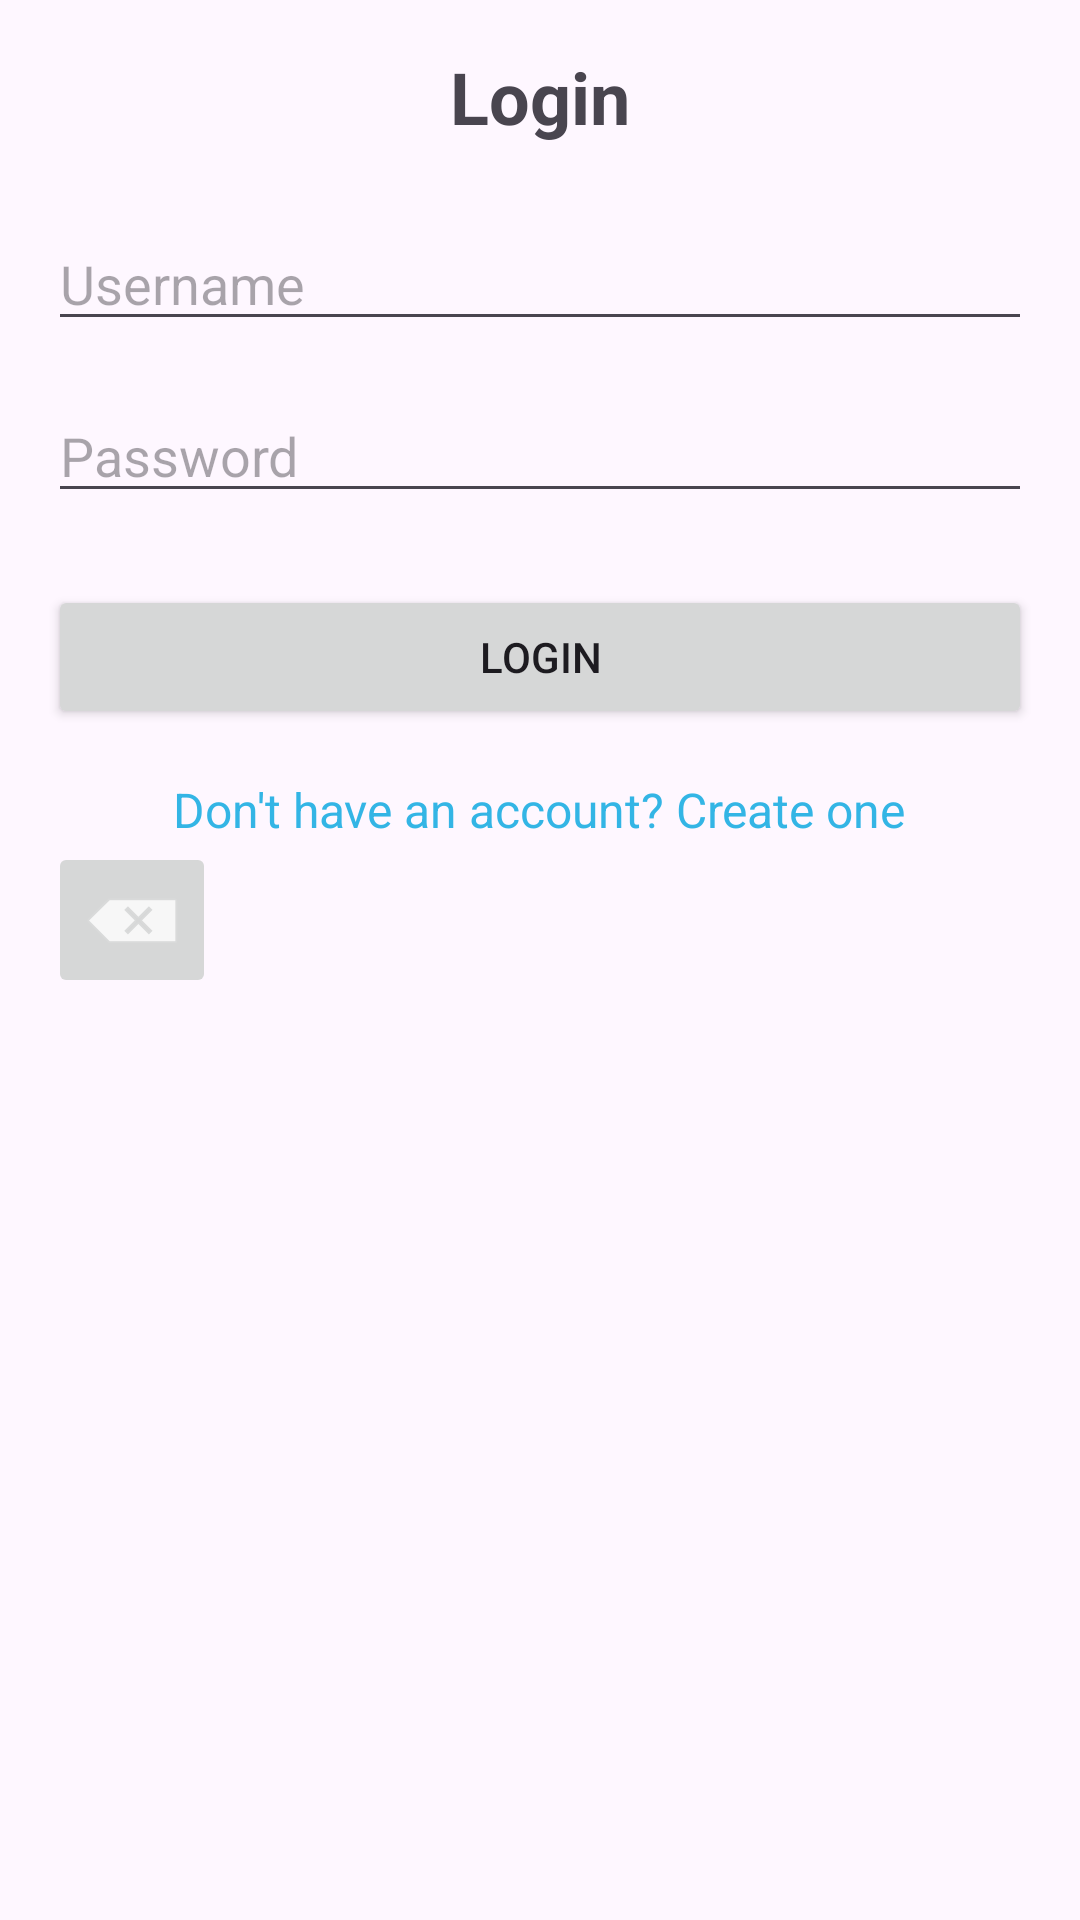

Icon bounding boxes for this 1080×1920 phone screenshot, format (x1, y1, x2, y2):
delete: (60, 860, 204, 980)
